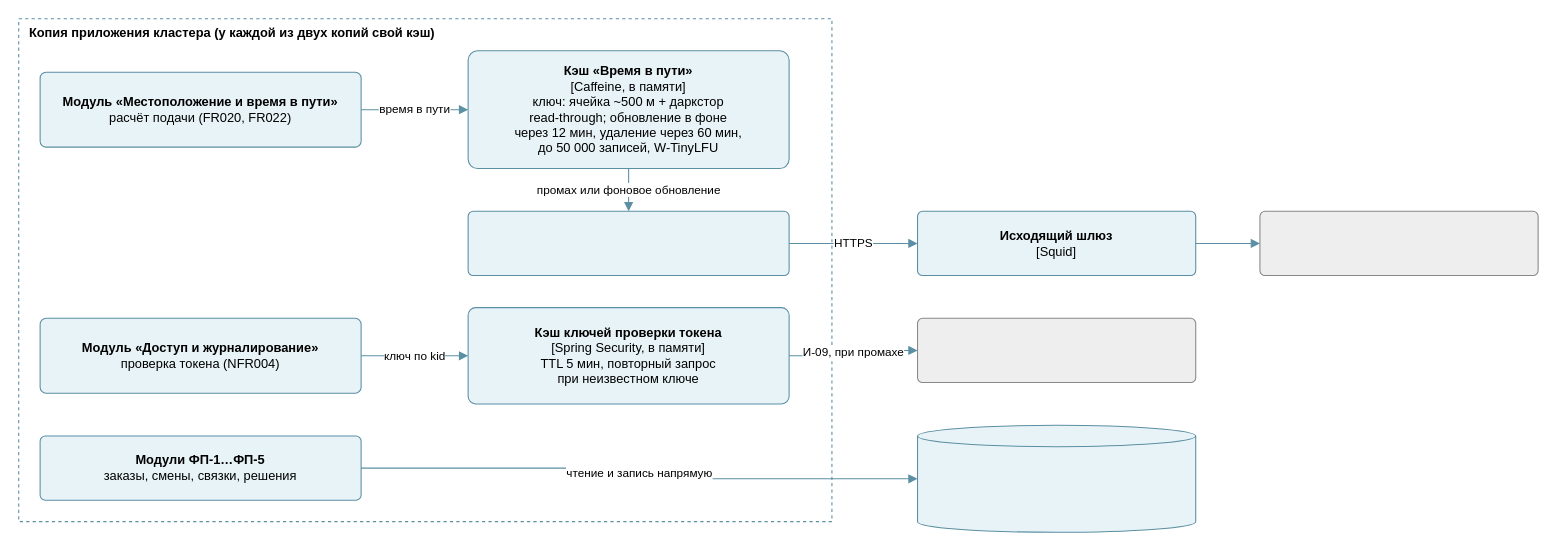
Image size: 1557x551. Some labels were removed from this diagram. The shapes that lost their labels are listed below. From the top down, each one's centre as x and y in pixels, then its label:
point 628,243: Модуль «Интеграции» запрос матрицы времён (И-06)
point 1398,243: Сервис маршрутизации [внешняя система, Интернет]
point 1056,350: Сервер учётных записей сети [смежная система]
point 1056,478: БД кластера [PostgreSQL 16] канонические данные, без кэша: запросы 0,1–0,6 мс
